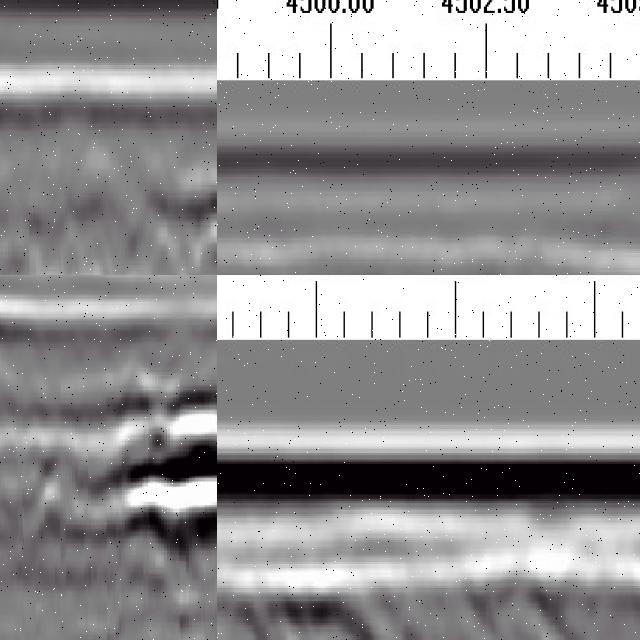loose: (49, 352, 218, 584), (218, 564, 600, 640)
